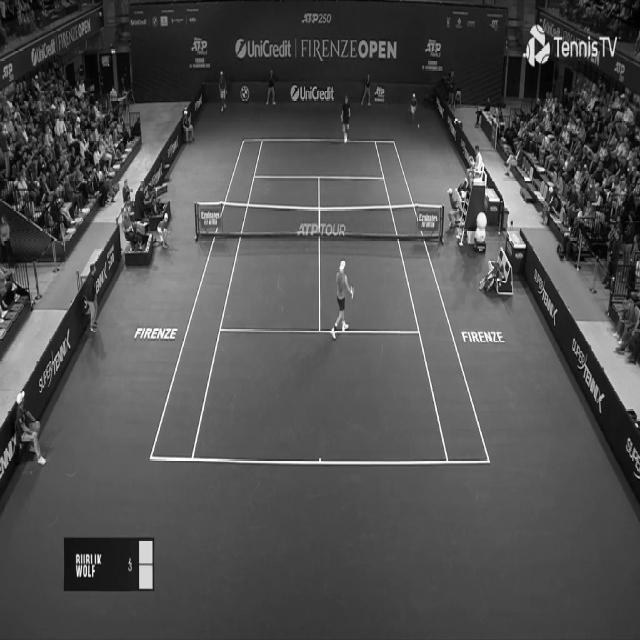tennis-court: (149, 140, 491, 464)
